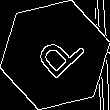P_SW: (25, 24, 85, 86)
